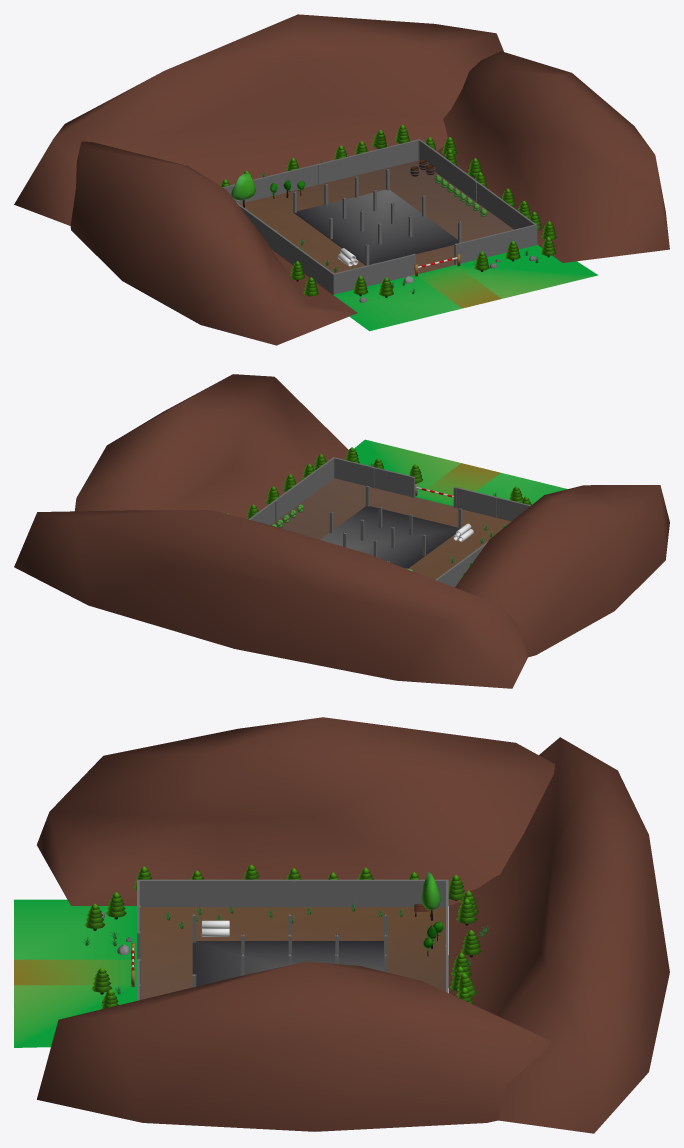
File: EvrmHub.glb
The picture shows the model from 3 angles, top to bottom: view 1: azimuth 30°, elevation 25°; view 2: azimuth 150°, elevation 25°; view 3: azimuth 270°, elevation 25°; orthographic projection. The views are drawn at different scales.
Visible parts, largest first — view 1: Icosphere, Icosphere.002, Icosphere.001, Wall, Floor, GroundHub, AbadonedBuiding, TreeLpr4.002; view 2: Icosphere, Icosphere.002, Icosphere.001, Floor, Wall, GroundHub, AbadonedBuiding; view 3: Icosphere.001, Icosphere.002, Icosphere, Floor, GroundHub, Wall, AbadonedBuiding.
Part boxes in pixels (bbox=[...]): Icosphere: bbox=[14, 14, 503, 225]; Icosphere.002: bbox=[437, 51, 669, 262]; Icosphere.001: bbox=[70, 141, 357, 345]; Wall: bbox=[223, 139, 537, 294]; Floor: bbox=[239, 160, 513, 294]; GroundHub: bbox=[333, 245, 597, 331]; AbadonedBuiding: bbox=[293, 169, 461, 265]; TreeLpr4.002: bbox=[230, 173, 255, 207]; Icosphere: bbox=[14, 510, 527, 688]; Icosphere.002: bbox=[75, 374, 348, 518]; Icosphere.001: bbox=[455, 485, 669, 657]; Floor: bbox=[270, 478, 511, 579]; Wall: bbox=[248, 457, 530, 587]; GroundHub: bbox=[354, 439, 567, 506]; AbadonedBuiding: bbox=[320, 485, 462, 568]; Icosphere.001: bbox=[37, 717, 555, 905]; Icosphere.002: bbox=[37, 961, 550, 1131]; Icosphere: bbox=[448, 737, 669, 1133]; Floor: bbox=[140, 907, 445, 999]; GroundHub: bbox=[14, 899, 136, 1047]; Wall: bbox=[137, 879, 448, 1000]; AbadonedBuiding: bbox=[192, 914, 387, 987].
Bounding box in the file's own units: 78.33 × 17.2 × 67.27.
